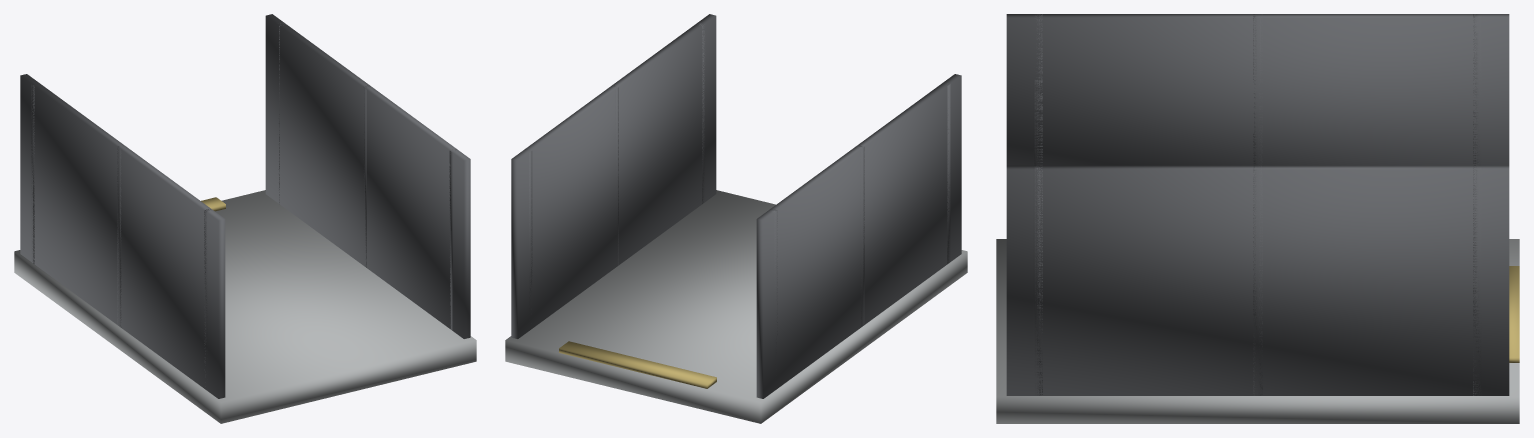
The model's file is floor_w150_d210_sides.glb.
3 renders of one model, left to right at view 1: azimuth 30°, elevation 25°; view 2: azimuth 150°, elevation 25°; view 3: azimuth 270°, elevation 25°, orthographic. The views are drawn at different scales.
Visible parts, largest first — view 1: world; view 2: world; view 3: world.
Part boxes in pixels (x1,y1,x2,y2): world: (14,14,476,423); world: (505,14,967,423); world: (996,14,1519,423).
Bounding box in the file's own units: 1.5 × 1.12 × 2.1.
